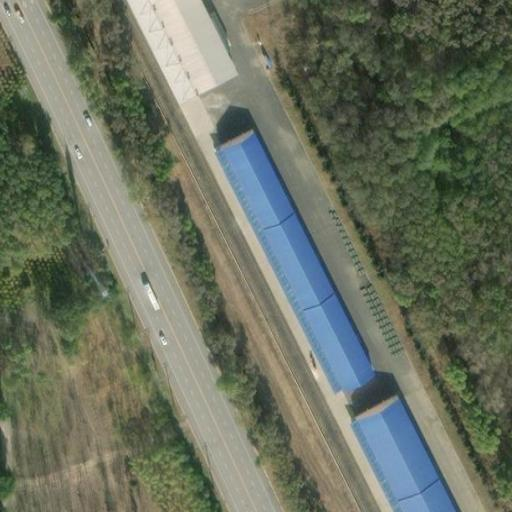building: (224, 139, 369, 387), (357, 402, 449, 512)
